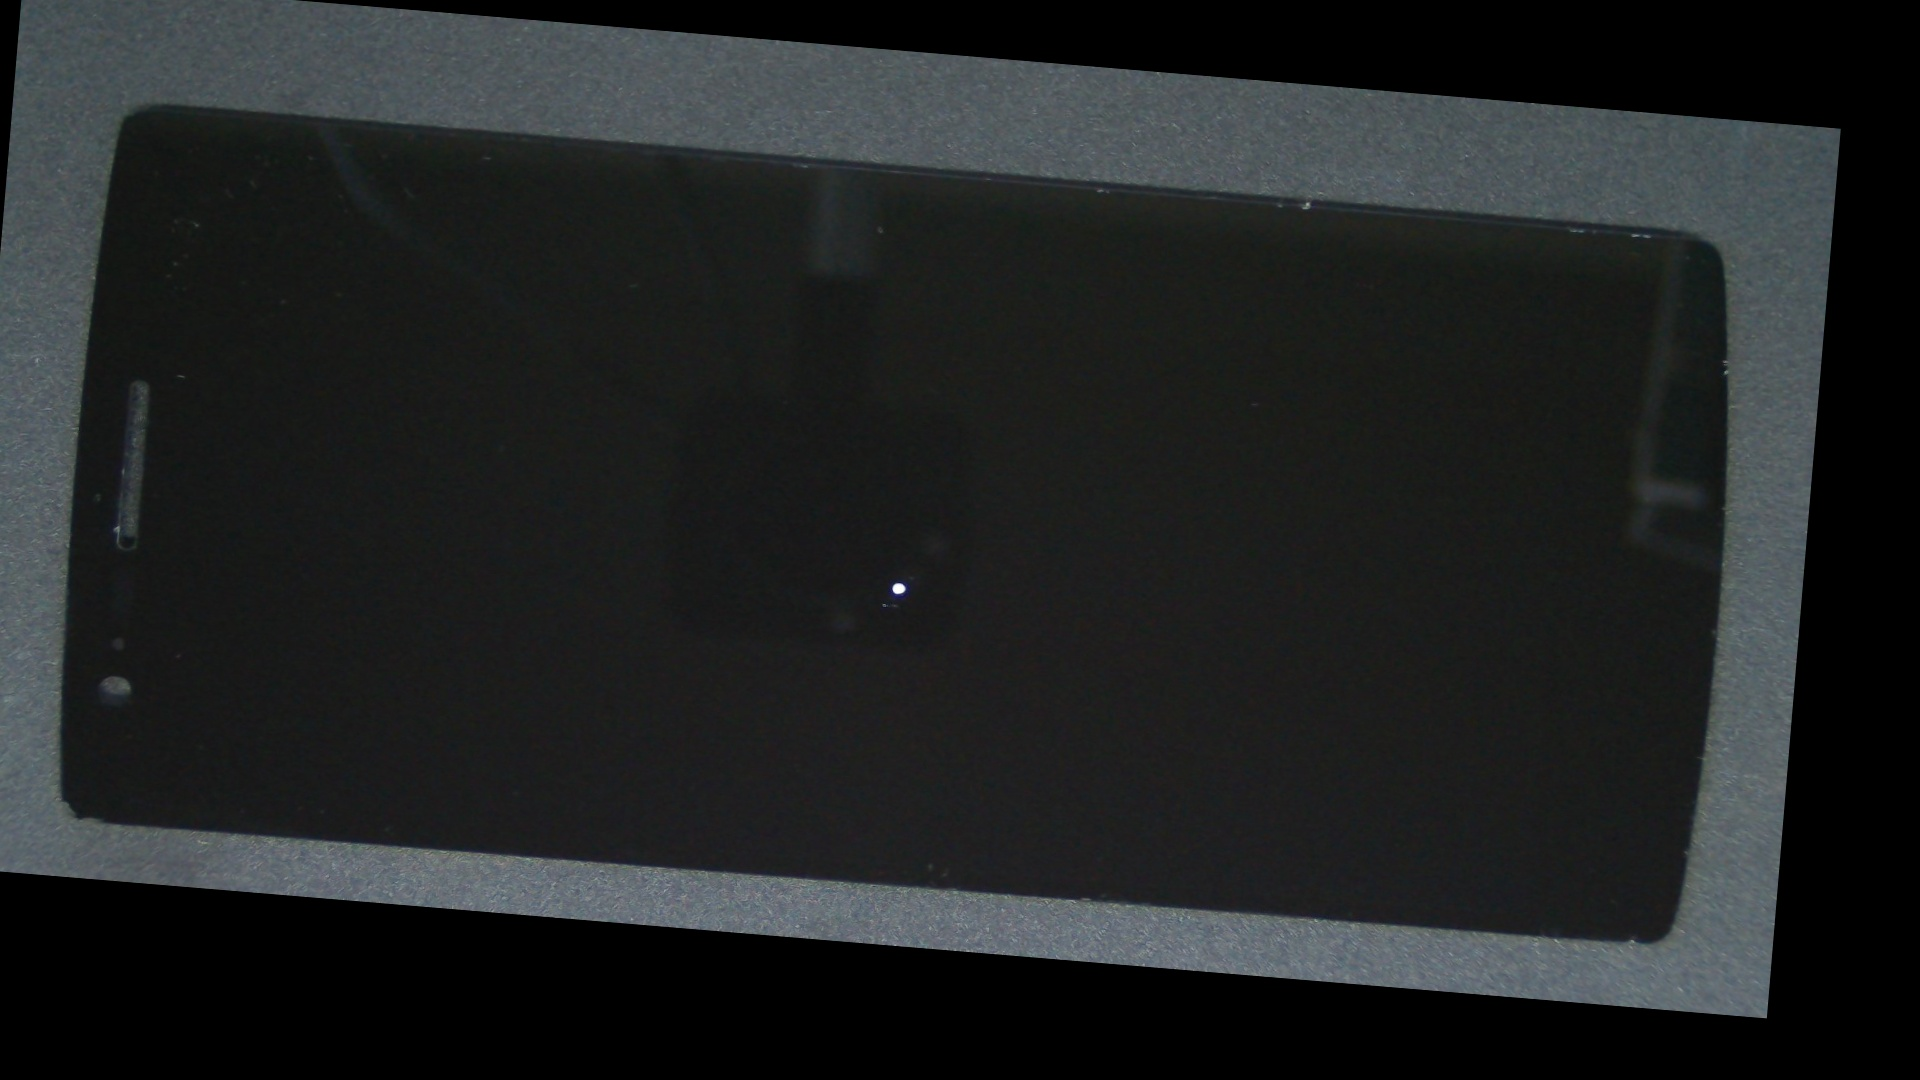oil: (419, 280, 1386, 885)
